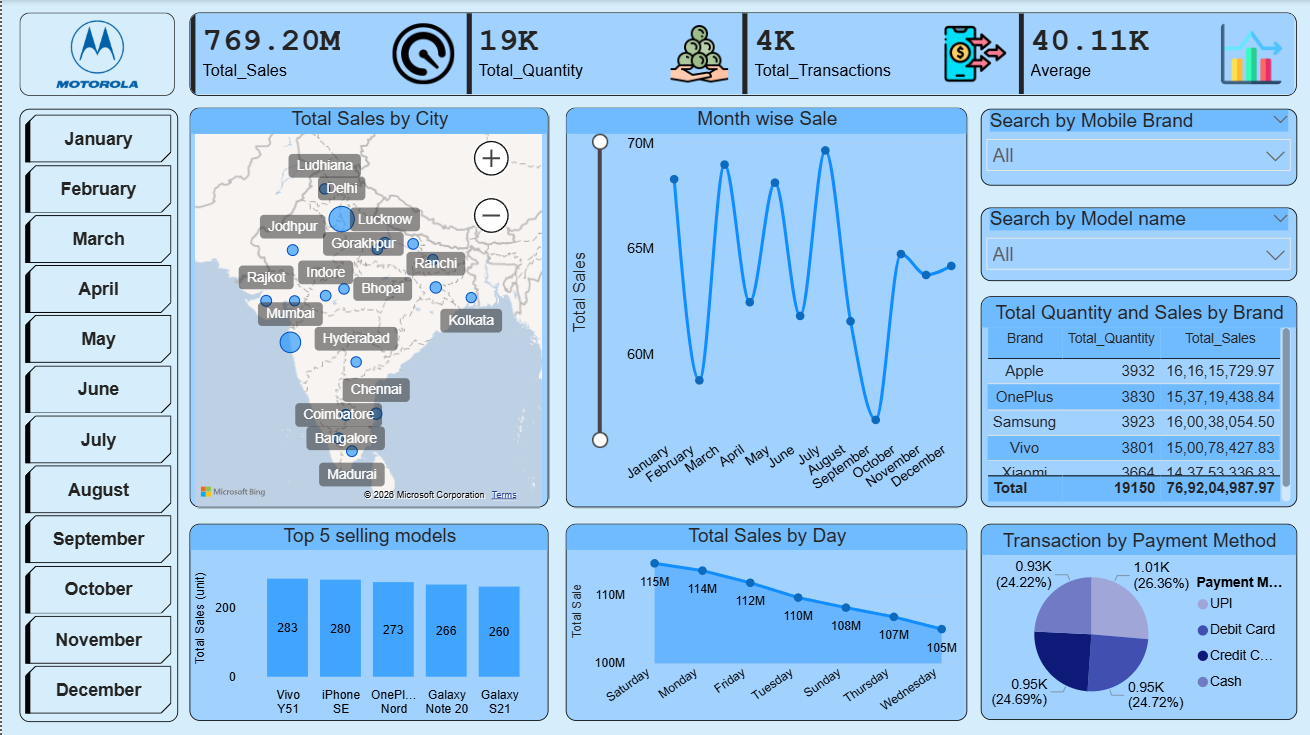

The page's visual inventory and layout, read from the dashboard file:
{"tool":"powerbi","page":{"name":"Page 1","canvas":[1280,720],"ordinal":0},"visuals":[{"type":"image","box":[16.9,12.3,152.3,81.5],"z":0},{"type":"advancedSlicerVisual","fields":{"Values":["Sales Data.Date.Variation.Date Hierarchy.Month"]},"box":[16.9,106.2,155.4,600],"z":1000},{"type":"cardVisual","fields":{"Data":["Sales Data.Total_Sales","Sales Data.Total_Quantity","Sales Data.Total_Transactions","Sales Data.Average"]},"box":[183.1,12.3,1083.1,81.5],"z":2000},{"type":"map","title":"Total Sales by City","fields":{"Category":["Sales Data.City"],"Size":["Sales Data.Total_Sales"]},"box":[182.9,105.7,351.4,391.4],"z":3000},{"type":"lineChart","title":"Month wise Sale","fields":{"Category":["Sales Data.Date.Variation.Date Hierarchy.Month","Sales Data.Date.Variation.Date Hierarchy.Day"],"Y":["Sales Data.Total_Sales"]},"box":[551.4,105.7,392.9,391.4],"z":4000},{"type":"columnChart","title":"Top 5 selling models","fields":{"Category":["Sales Data.Mobile Model"],"Y":["Sales Data.Total_Transactions"]},"box":[182.9,512.9,351.4,192.9],"z":5000},{"type":"pieChart","title":"Transaction by Payment Method","fields":{"Y":["CountNonNull(Sales Data.Transaction ID)"],"Category":["Sales Data.Payment Method"]},"box":[956.9,512.3,309.2,192.3],"z":6000},{"type":"areaChart","title":"Total Sales by Day","fields":{"Category":["Sales Data.Day Name.1"],"Y":["Sales Data.Total_Sales"]},"box":[551.4,512.9,392.9,192.9],"z":7000},{"type":"tableEx","title":"Total Quantity and Sales by Brand","fields":{"Values":["Sales Data.Brand","Sales Data.Total_Quantity","Sales Data.Total_Sales"]},"box":[957.5,289.8,309.4,206.7],"z":8000},{"type":"slicer","fields":{"Values":["Sales Data.Mobile Model"]},"box":[956.9,203.1,309.2,72.3],"z":9000},{"type":"slicer","title":"fghfh","fields":{"Values":["Sales Data.Brand"]},"box":[956.9,106.2,309.2,75.4],"z":10000}]}

Visuals, with their boxes in screenshot pixels (x1, y1, x2, y2), scaled from the page's 1280x720 canvas onto the 1310x735 screenshot:
image: <bbox>17, 13, 173, 96</bbox>
advancedSlicerVisual - Sales Data.Date.Variation.Date Hierarchy.Month: <bbox>17, 108, 176, 721</bbox>
cardVisual - Sales Data.Total_Sales x Sales Data.Total_Quantity: <bbox>187, 13, 1296, 96</bbox>
"Total Sales by City" map: <bbox>187, 108, 547, 507</bbox>
"Month wise Sale" lineChart: <bbox>564, 108, 966, 507</bbox>
"Top 5 selling models" columnChart: <bbox>187, 524, 547, 721</bbox>
"Transaction by Payment Method" pieChart: <bbox>979, 523, 1296, 719</bbox>
"Total Sales by Day" areaChart: <bbox>564, 524, 966, 721</bbox>
"Total Quantity and Sales by Brand" tableEx: <bbox>980, 296, 1297, 507</bbox>
slicer - Sales Data.Mobile Model: <bbox>979, 207, 1296, 281</bbox>
"fghfh" slicer: <bbox>979, 108, 1296, 185</bbox>
